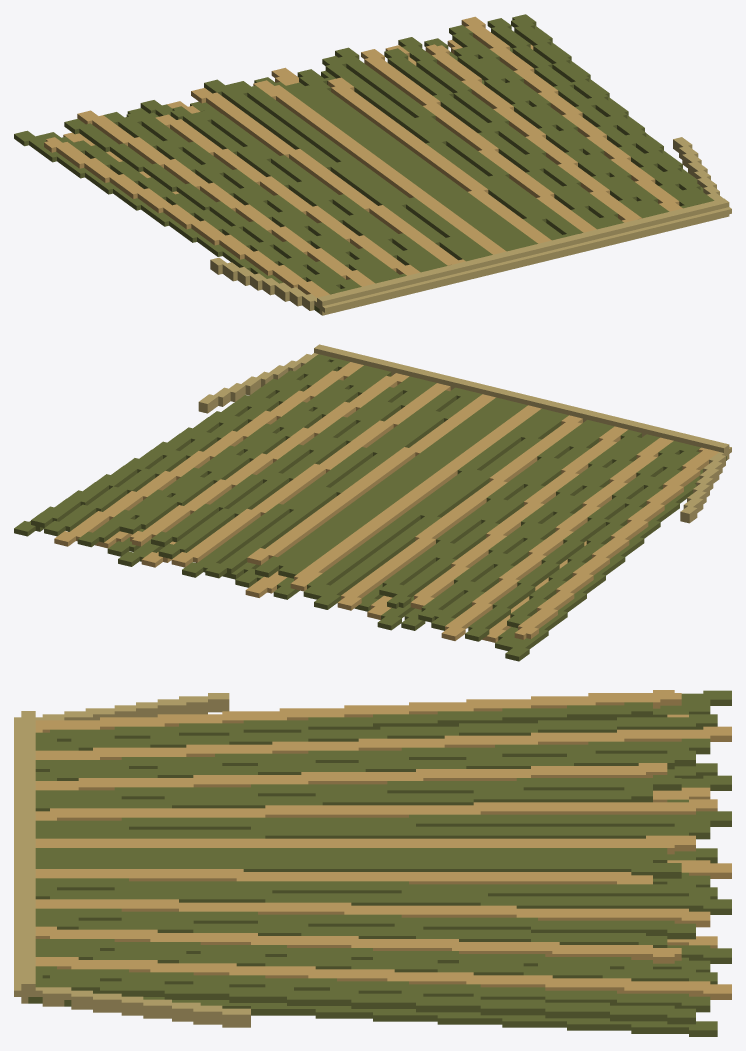
File: skirt_grass.glb
The picture shows the model from 3 angles, top to bottom: view 1: azimuth 30°, elevation 25°; view 2: azimuth 150°, elevation 25°; view 3: azimuth 270°, elevation 25°; orthographic projection. The views are drawn at different scales.
Parts seen in each view (by area): view 1: skirt_grass:compound; view 2: skirt_grass:compound; view 3: skirt_grass:compound.
Part boxes in pixels (x1,y1,x2,y2): skirt_grass:compound: [14, 14, 731, 315]; skirt_grass:compound: [14, 344, 731, 661]; skirt_grass:compound: [14, 690, 731, 1036].
Bounding box in the file's own units: 0.448 × 0.012 × 0.4.
